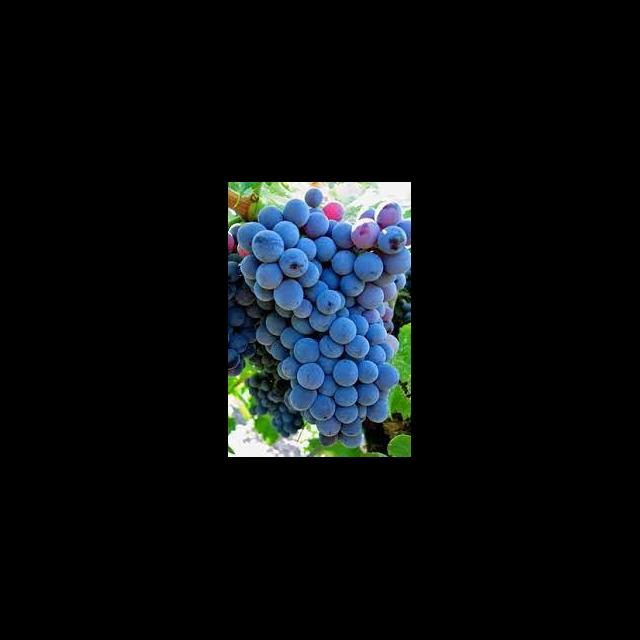grape: (228, 188, 410, 448)
